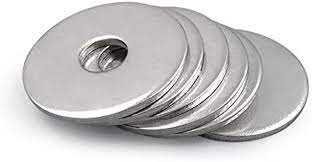No thread: (66, 37, 134, 77)
